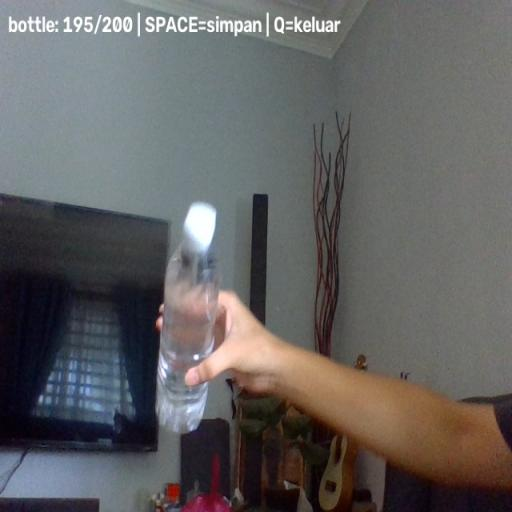Bottle: (156, 201, 222, 435)
